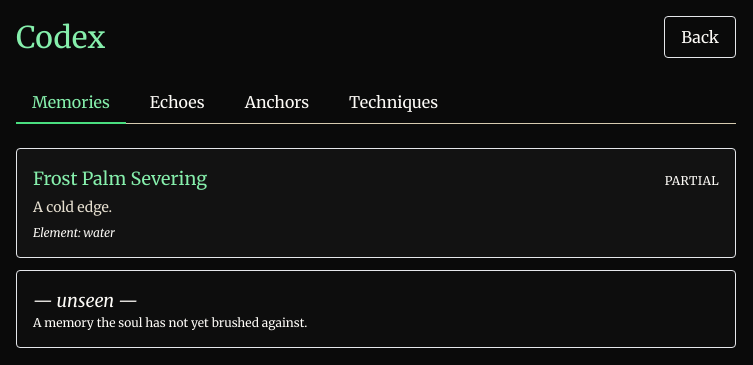
Test: CodexScreen › renders unlocked echoes with effect summary; locked echoes as silhouettes with hint
The image size is (753, 365).
Click the tab "echoes".
click(177, 103)  # box [134, 82, 221, 124]
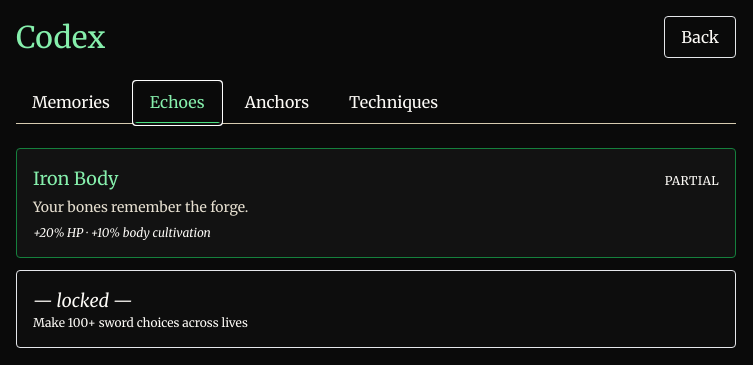
Result: the text "Iron Body" is shown at [33, 165, 118, 193]
Result: the text "+20% HP · +10% body cultivation" is shown at [33, 225, 211, 240]
Result: the text "Make 100+ sword choices across lives" is shown at [33, 315, 248, 330]
